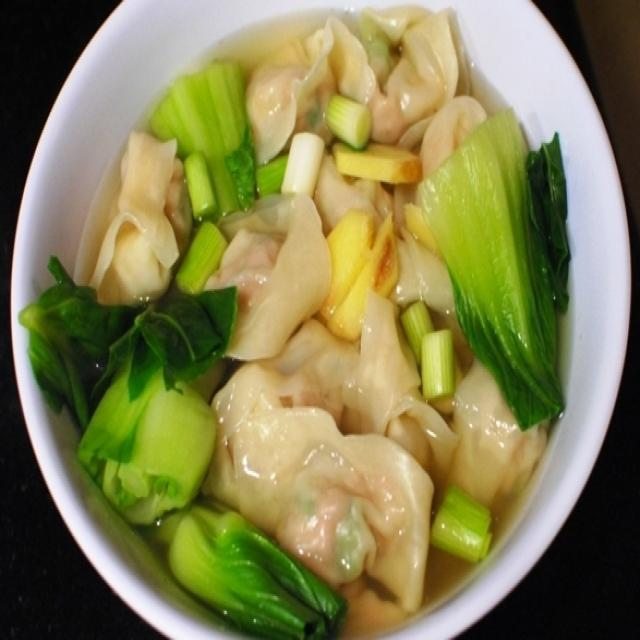汤锅炖物: (48, 18, 583, 612)
